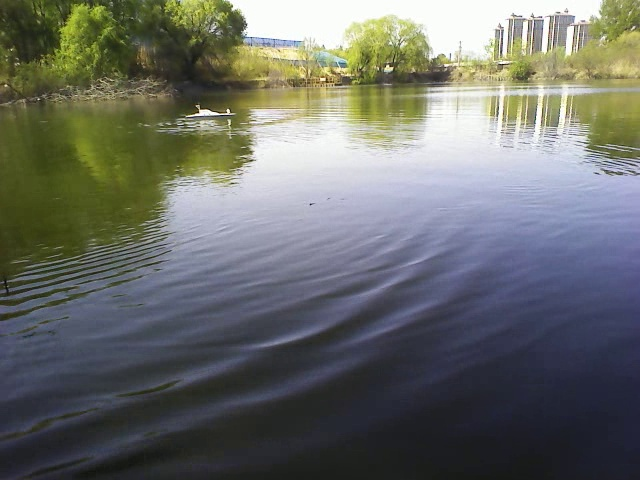boat: (186, 106, 241, 121)
